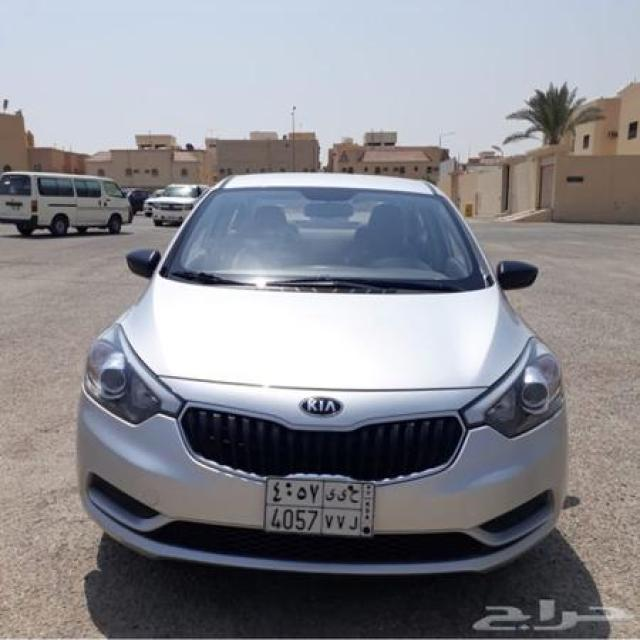license_plate: (262, 475, 378, 541)
